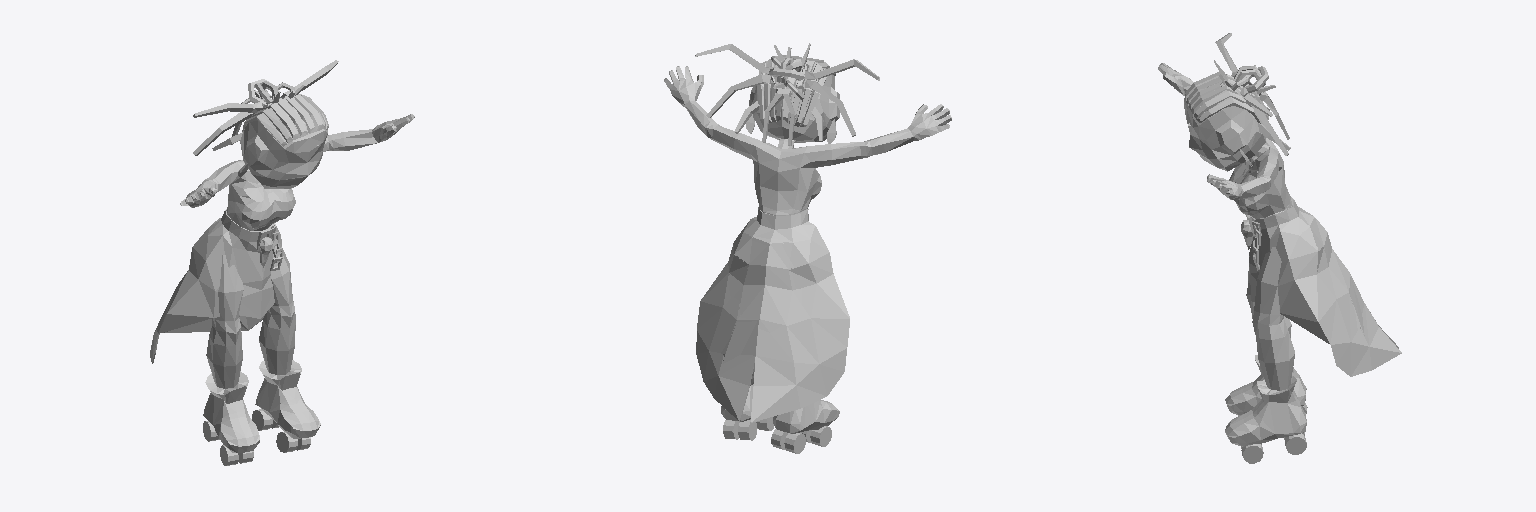
The model's file is bruja_000188.obj.
3 renders of one model, left to right at view 1: azimuth 30°, elevation 25°; view 2: azimuth 150°, elevation 25°; view 3: azimuth 270°, elevation 25°, orthographic.
Visible parts, largest first — view 1: Bruja_Plane.001; view 2: Bruja_Plane.001; view 3: Bruja_Plane.001.
Boxes of the visible parts, x1=… form: Bruja_Plane.001: x1=150, y1=60, x2=414, y2=465; Bruja_Plane.001: x1=664, y1=43, x2=951, y2=453; Bruja_Plane.001: x1=1158, y1=33, x2=1401, y2=463.
Bounding box in the file's own units: 11.47 × 16.18 × 9.39.